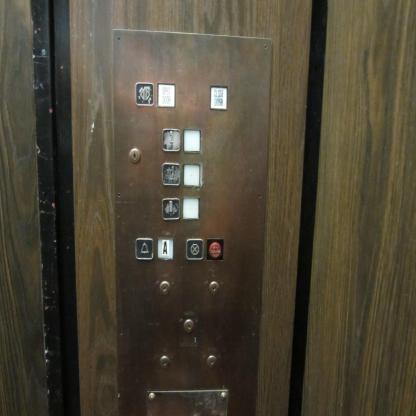2: (161, 127, 181, 153)
A: (156, 237, 174, 260)
B: (161, 198, 180, 222)
alarm: (134, 238, 154, 260)
empty: (183, 162, 202, 188), (183, 128, 201, 153), (182, 195, 200, 220)
keyhole: (129, 146, 141, 164)
open: (134, 80, 154, 107)
s1: (162, 162, 181, 187)
stop: (186, 238, 204, 261)
text: (209, 85, 228, 111), (206, 238, 224, 261)
text_open door: (157, 83, 176, 108)
